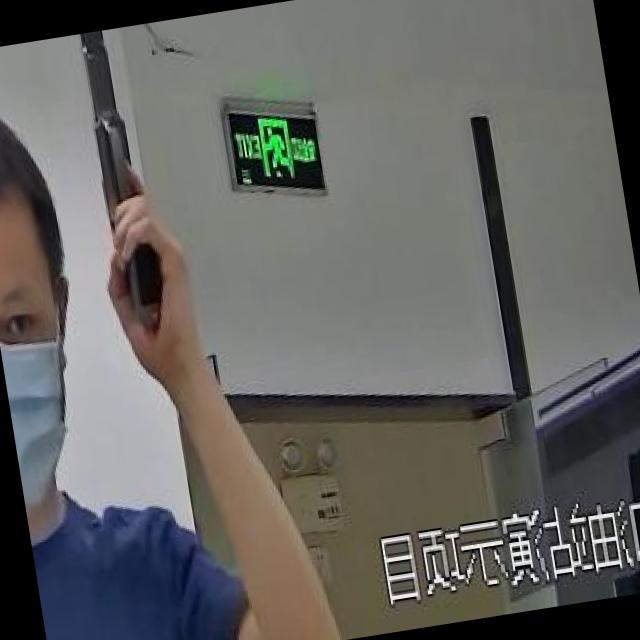Guns: (41, 24, 190, 335)
